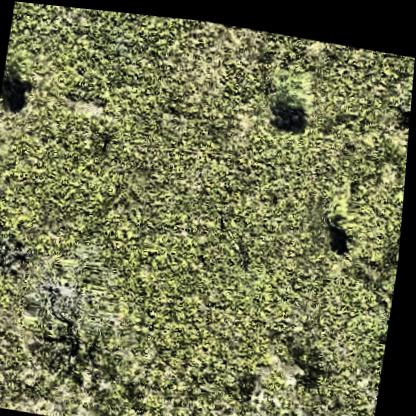tree-top: (40, 261, 108, 324), (267, 83, 311, 128), (324, 195, 361, 242), (2, 56, 41, 96)
